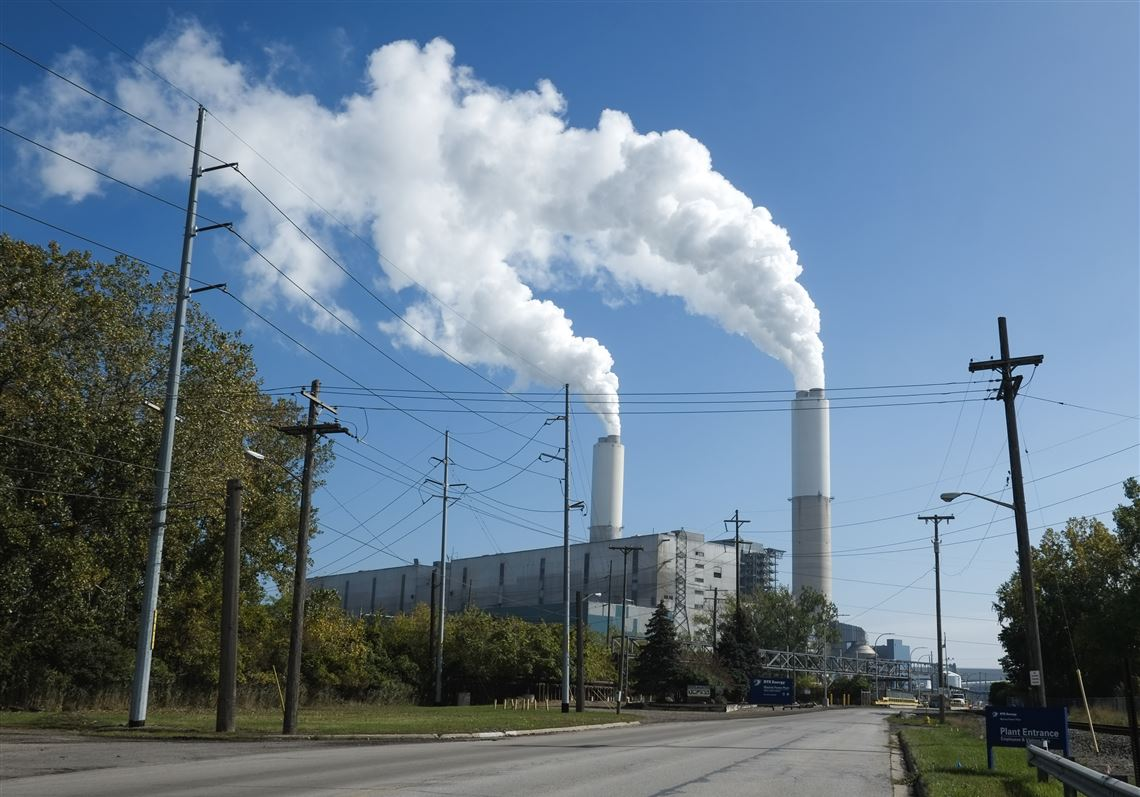工厂排烟: (0, 0, 827, 394), (0, 0, 622, 438)
